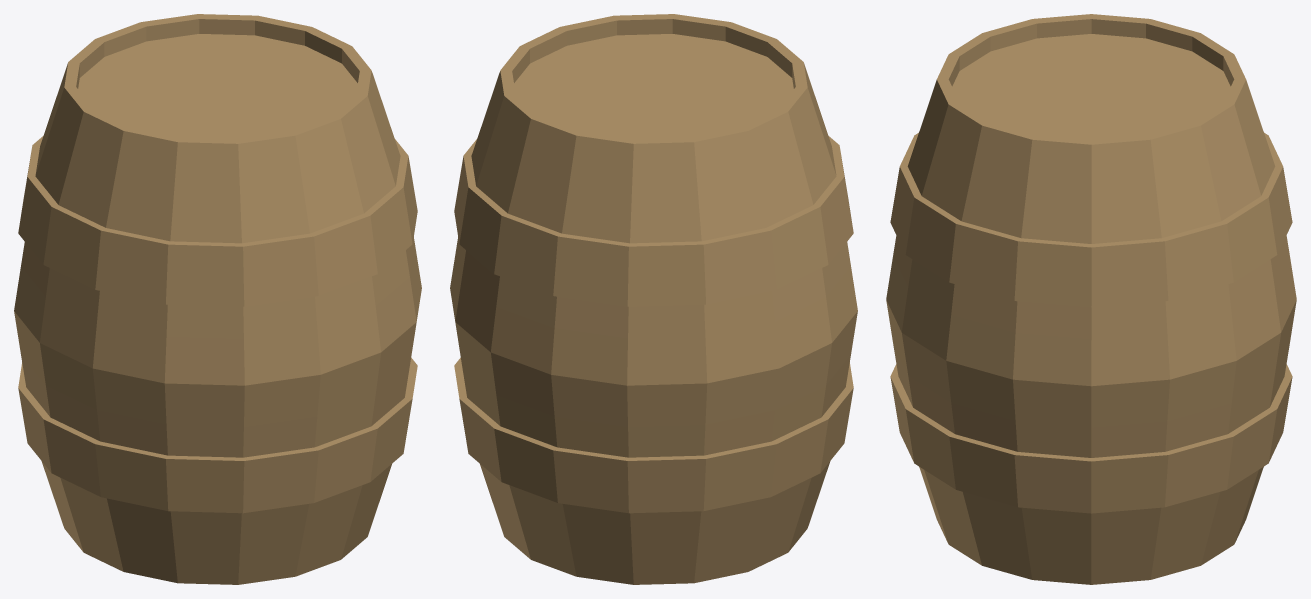
File: barrel.fbx
3 renders of one model, left to right at view 1: azimuth 30°, elevation 25°; view 2: azimuth 150°, elevation 25°; view 3: azimuth 270°, elevation 25°, orthographic.
Visible parts, largest first — view 1: Barrel; view 2: Barrel; view 3: Barrel.
Boxes of the visible parts, x1,y1,x2,y2 form: Barrel: (14,14,421,584); Barrel: (450,14,857,584); Barrel: (886,14,1296,584).
Size of the model in its own units: 265 by 314 by 265.
